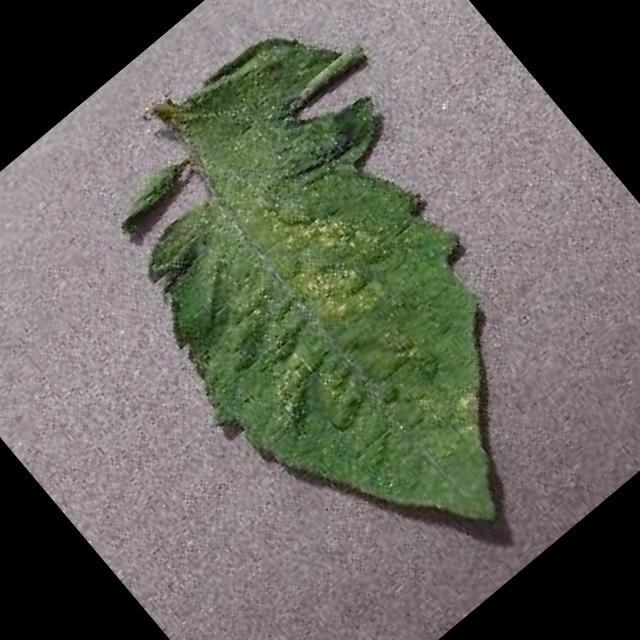Tomato spider mites leaf: (44, 0, 640, 615)
